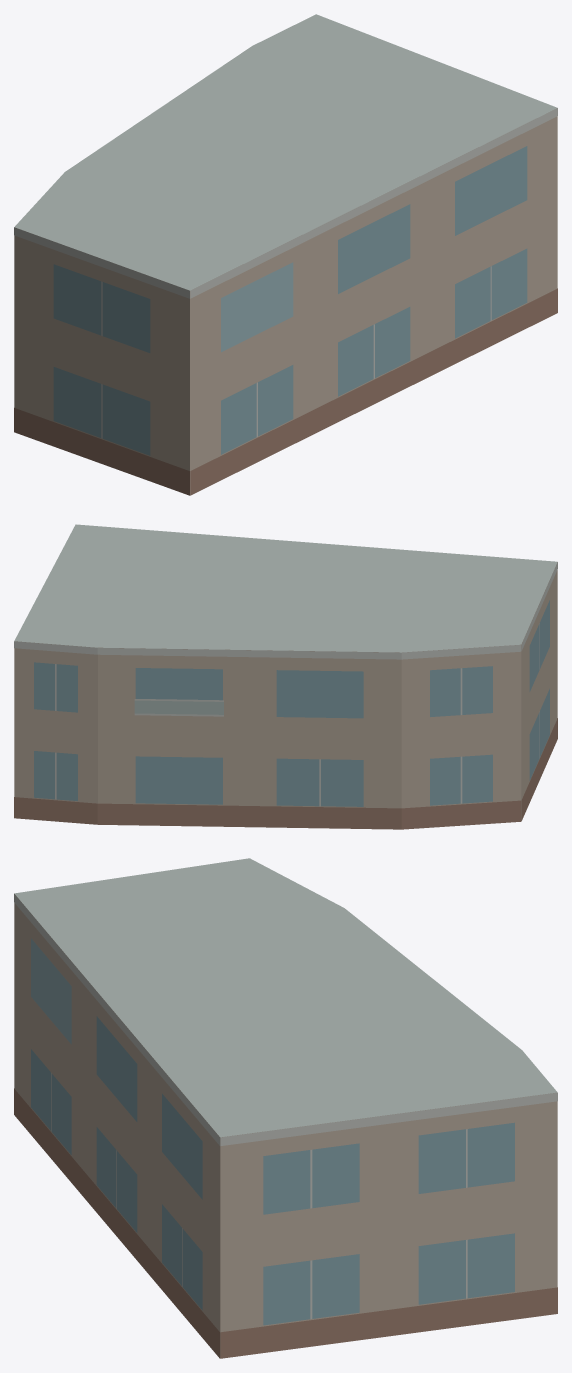
File: survey-upis-32826429.glb
The picture shows the model from 3 angles, top to bottom: view 1: azimuth 30°, elevation 25°; view 2: azimuth 150°, elevation 25°; view 3: azimuth 270°, elevation 25°; orthographic projection. The views are drawn at different scales.
Parts seen in each view (by area): view 1: survey-upis-32826429.tmp; view 2: survey-upis-32826429.tmp; view 3: survey-upis-32826429.tmp.
Boxes of the visible parts, bbox=[...] form: survey-upis-32826429.tmp: bbox=[14, 14, 557, 495]; survey-upis-32826429.tmp: bbox=[14, 524, 557, 829]; survey-upis-32826429.tmp: bbox=[14, 858, 557, 1358].
Bounding box in the file's own units: 16.51 × 6.1 × 13.59.
